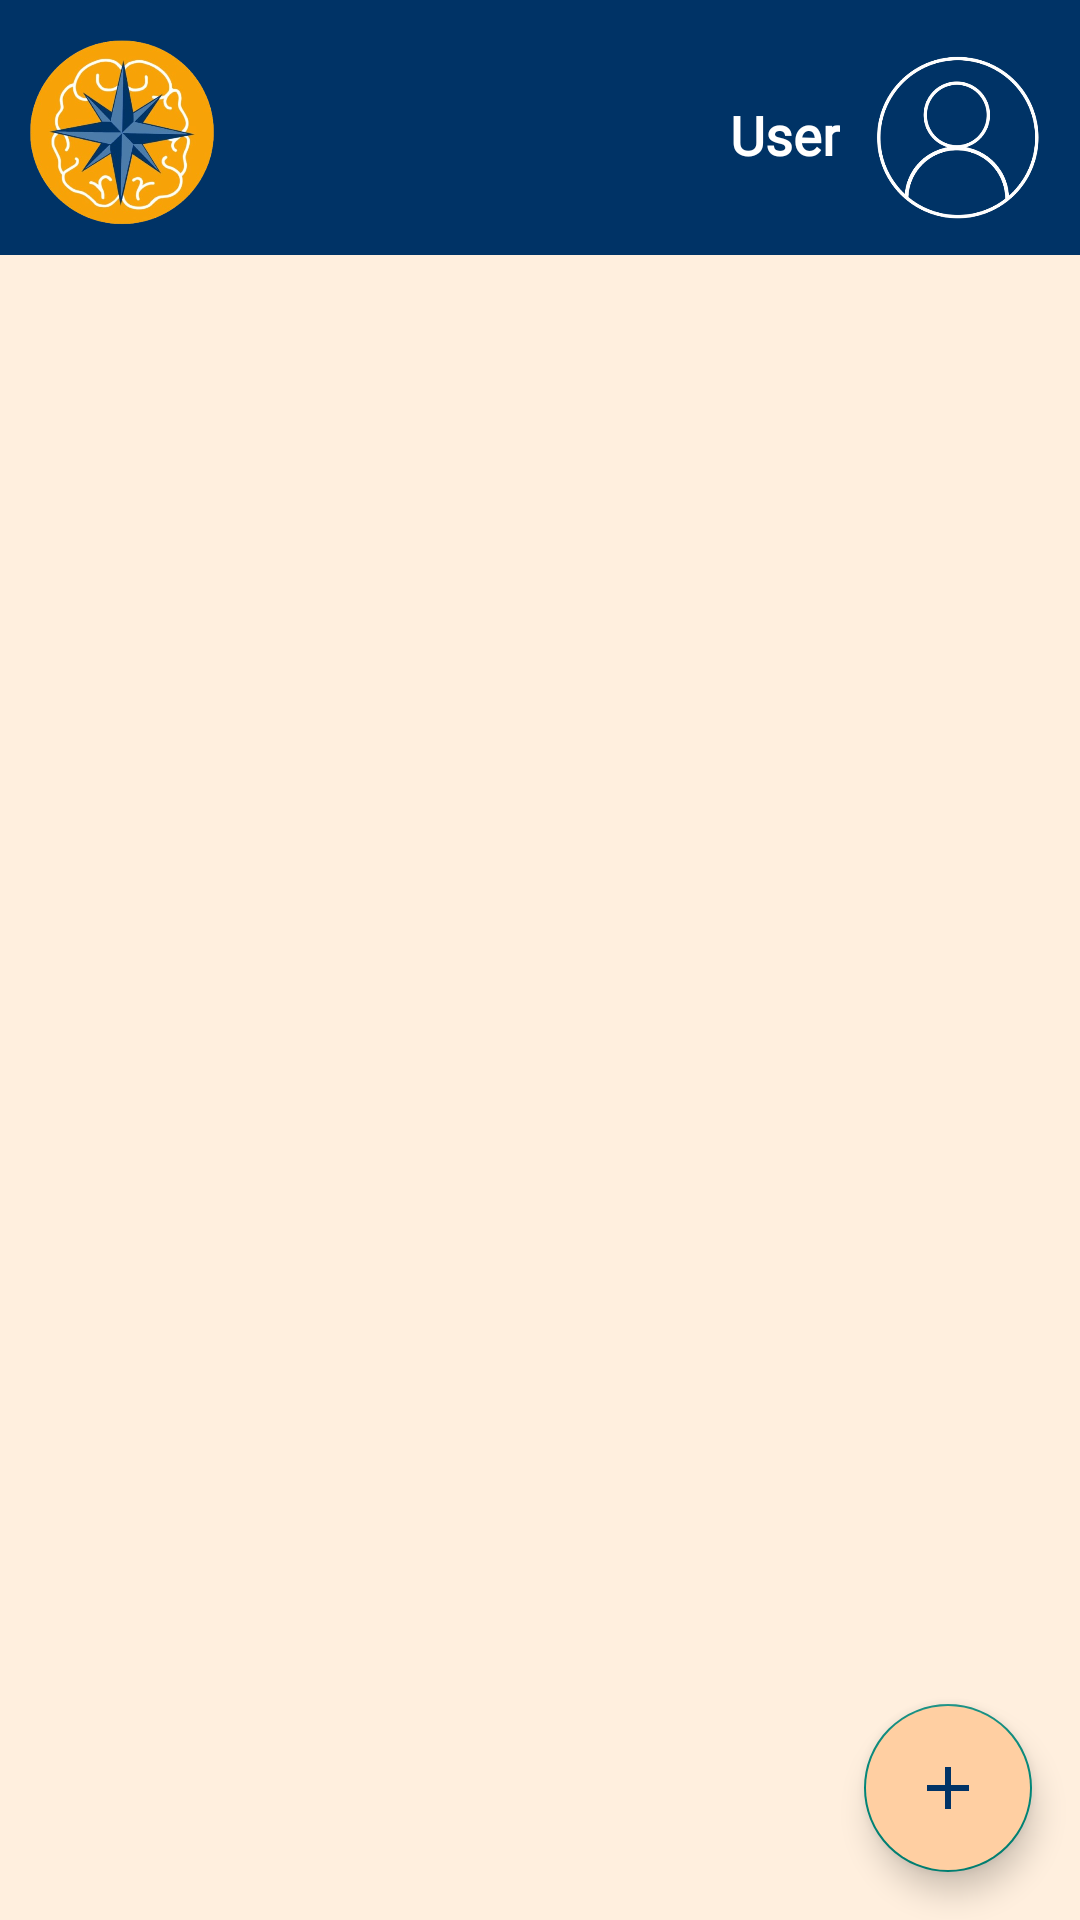

Point at icon controls on the screen. Image size 1080*1920, points as (x=x, y=y).
add: (x=948, y=1788)
perfil: (x=958, y=138)
